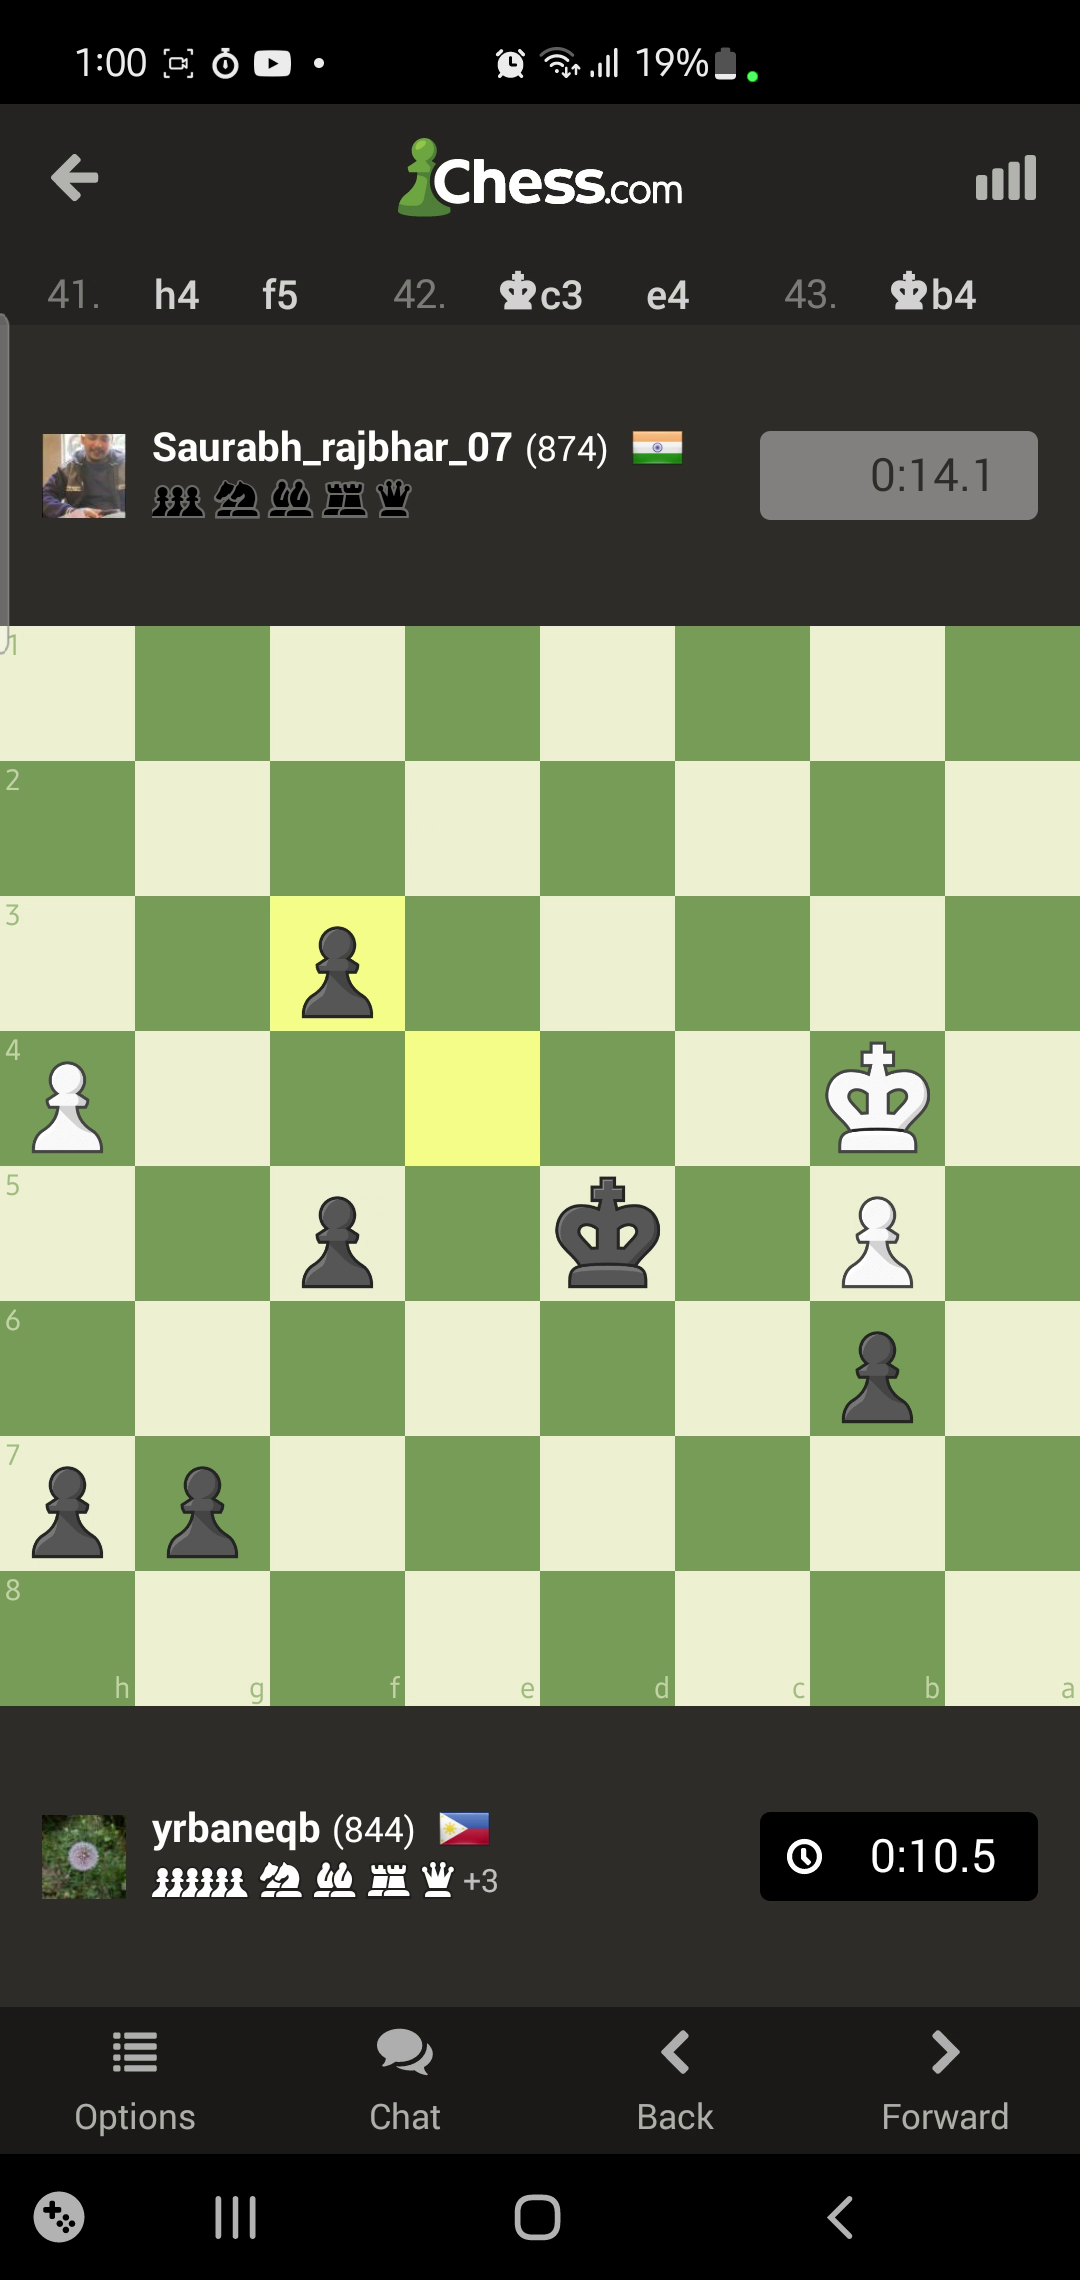king: (827, 1043, 930, 1152), (557, 1181, 656, 1287)
